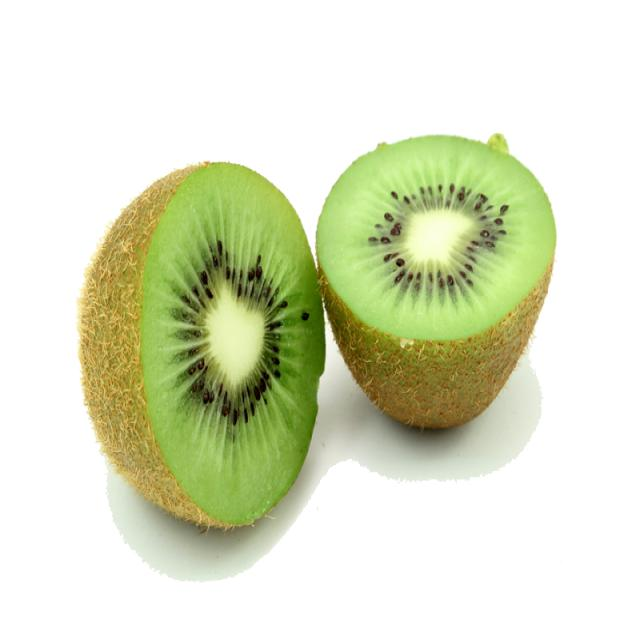Chilli Pepper: (77, 161, 326, 526), (313, 128, 566, 450)
